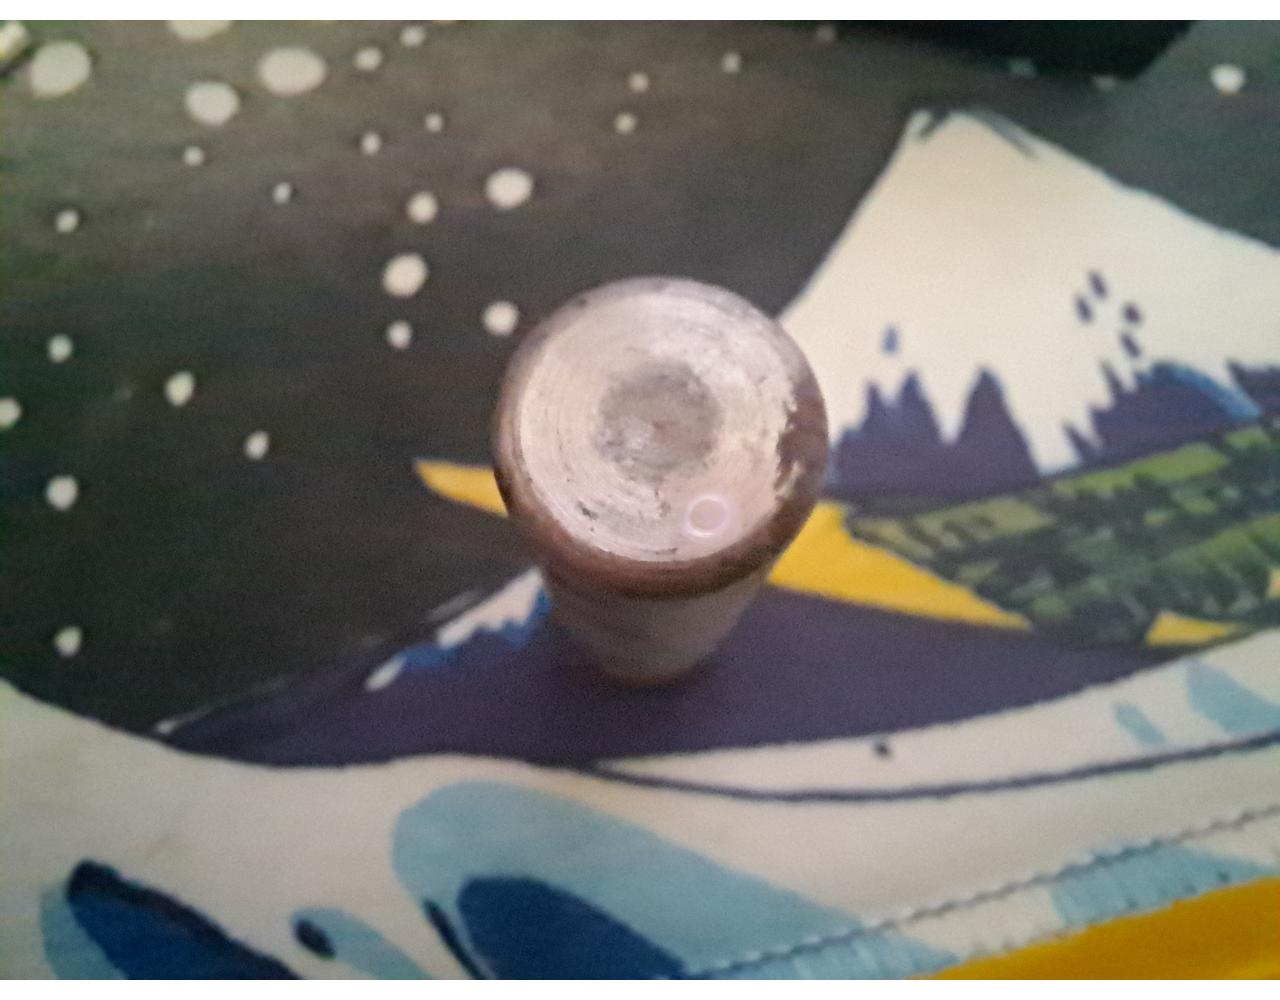defect: (681, 491, 736, 545)
planson: (484, 278, 832, 692)
